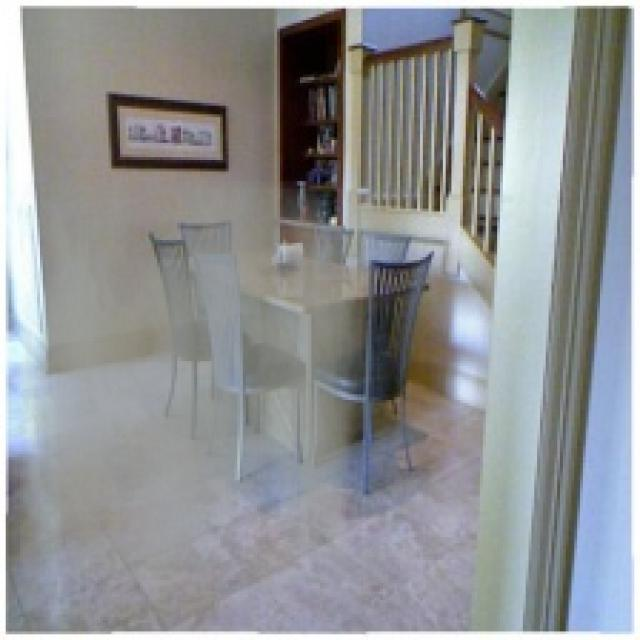smoke: (20, 180, 374, 583)
